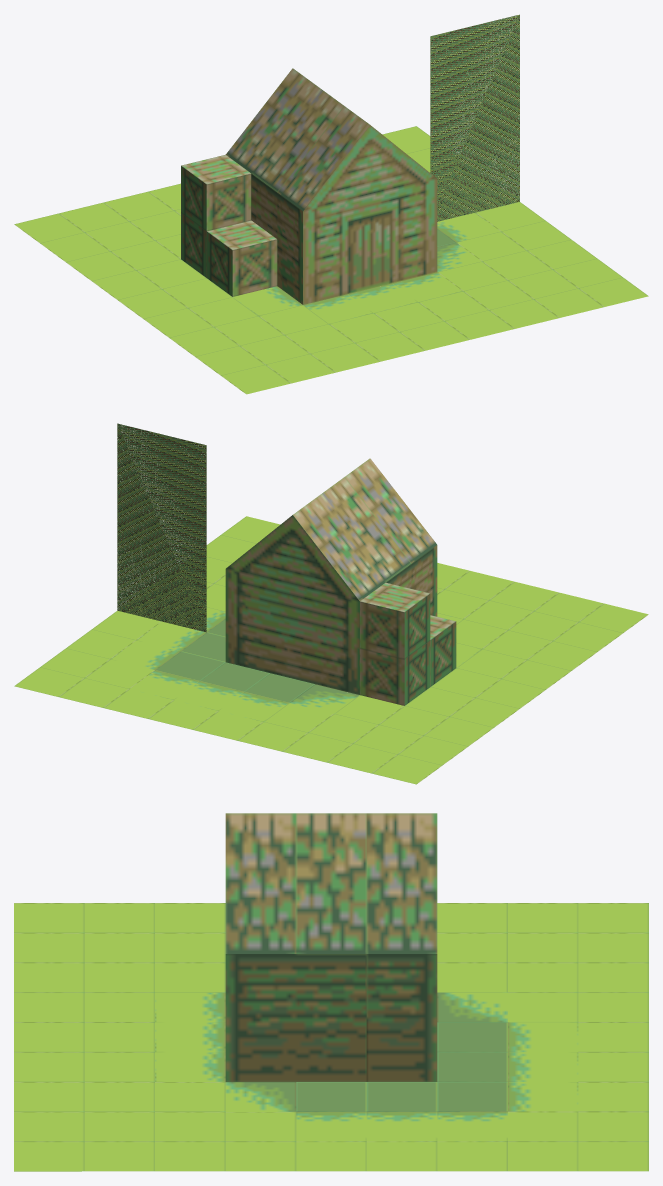
The model's file is testLevel.obj.
3 renders of one model, top to bottom at view 1: azimuth 30°, elevation 25°; view 2: azimuth 150°, elevation 25°; view 3: azimuth 270°, elevation 25°, orthographic. The views are drawn at different scales.
Parts seen in each view (by area): view 1: Default; view 2: Default; view 3: Default.
Part boxes in pixels (x1=…): Default: x1=14, y1=14, x2=648, y2=394; Default: x1=14, y1=423, x2=648, y2=784; Default: x1=14, y1=813, x2=648, y2=1171.
Size of the model in its own units: 9 by 4 by 9.
Materials: 1 (1 with a texture image).
